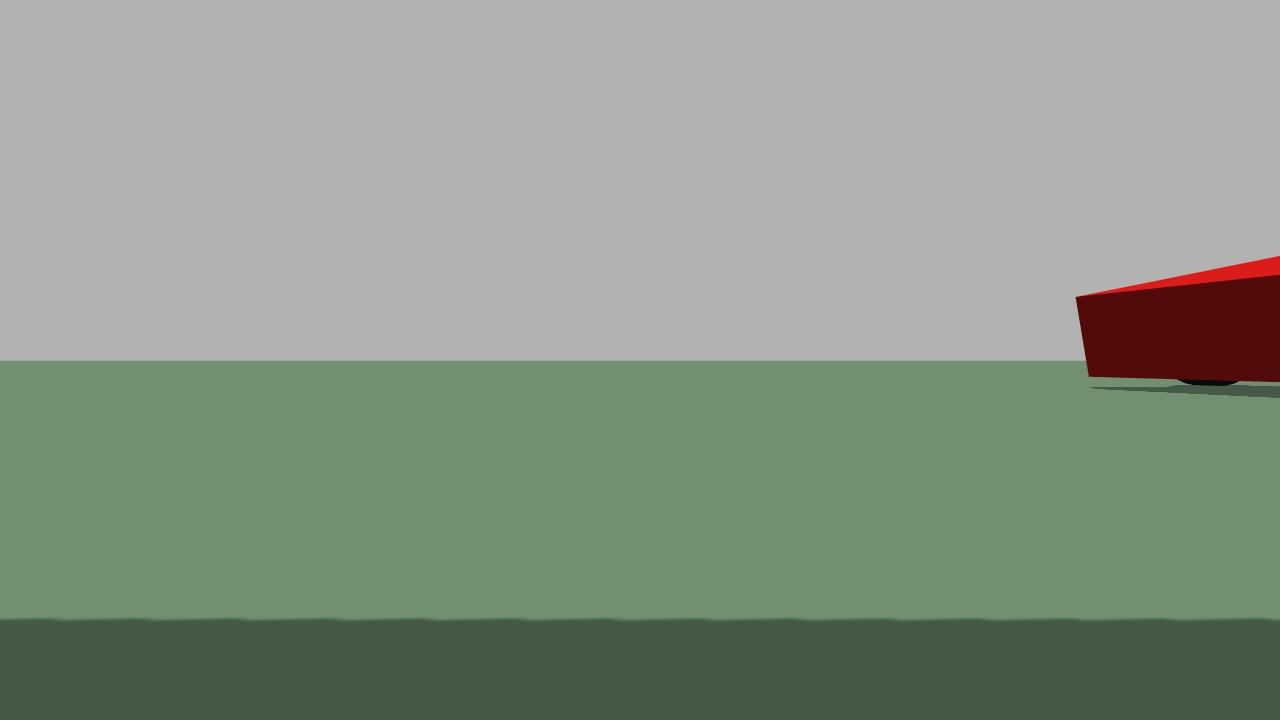ground_vehicle: (1062, 249, 1280, 393)
